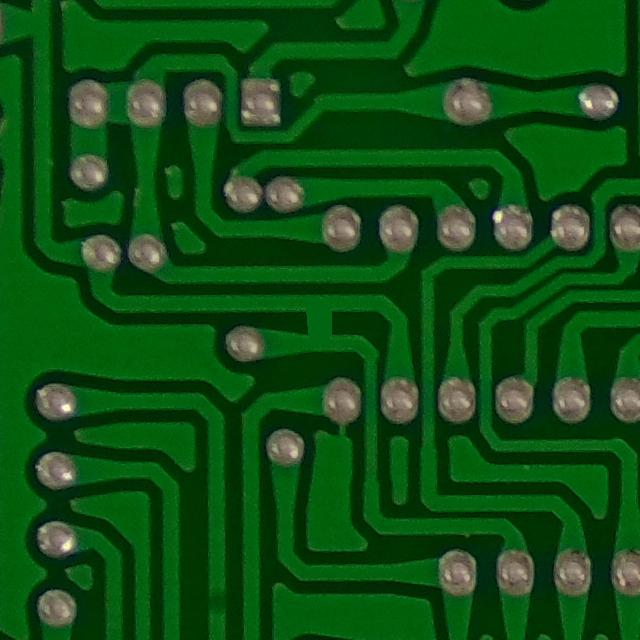short: (286, 284, 354, 357)
